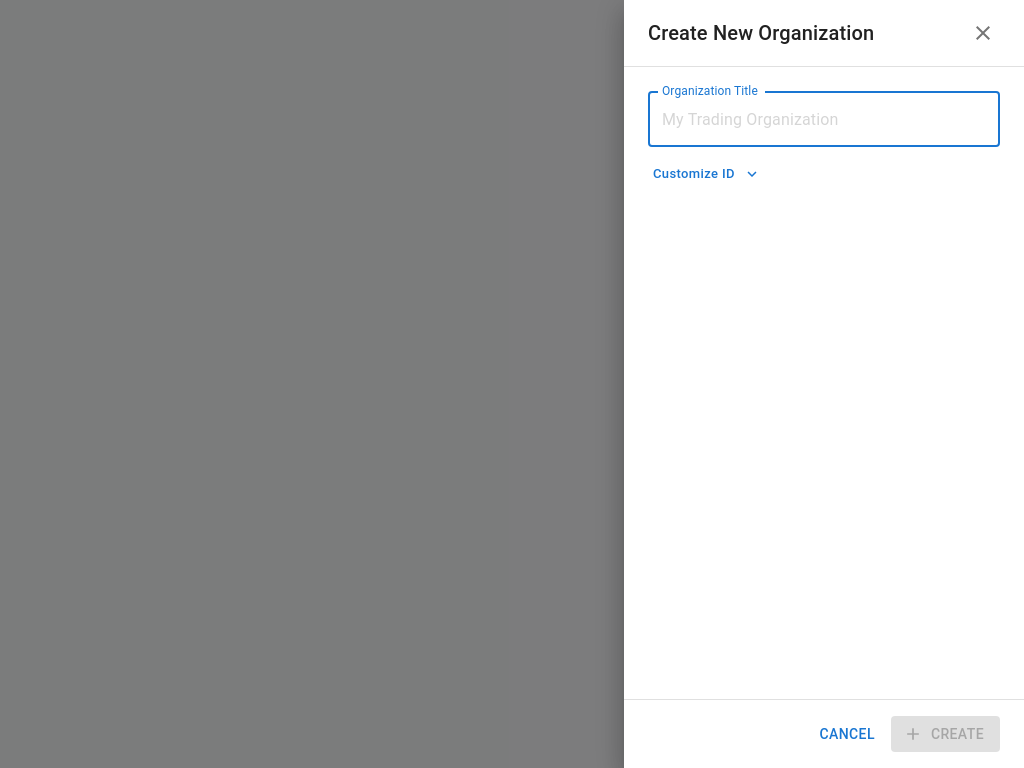
CreateOrganizationDrawer › validation › disables submit button when ID has validation error
The image size is (1024, 768).
// Enter a title first
Step 1. Type "My Organization" into the field labelled "Organization Title" → (824, 119), box [648,91,1000,147]
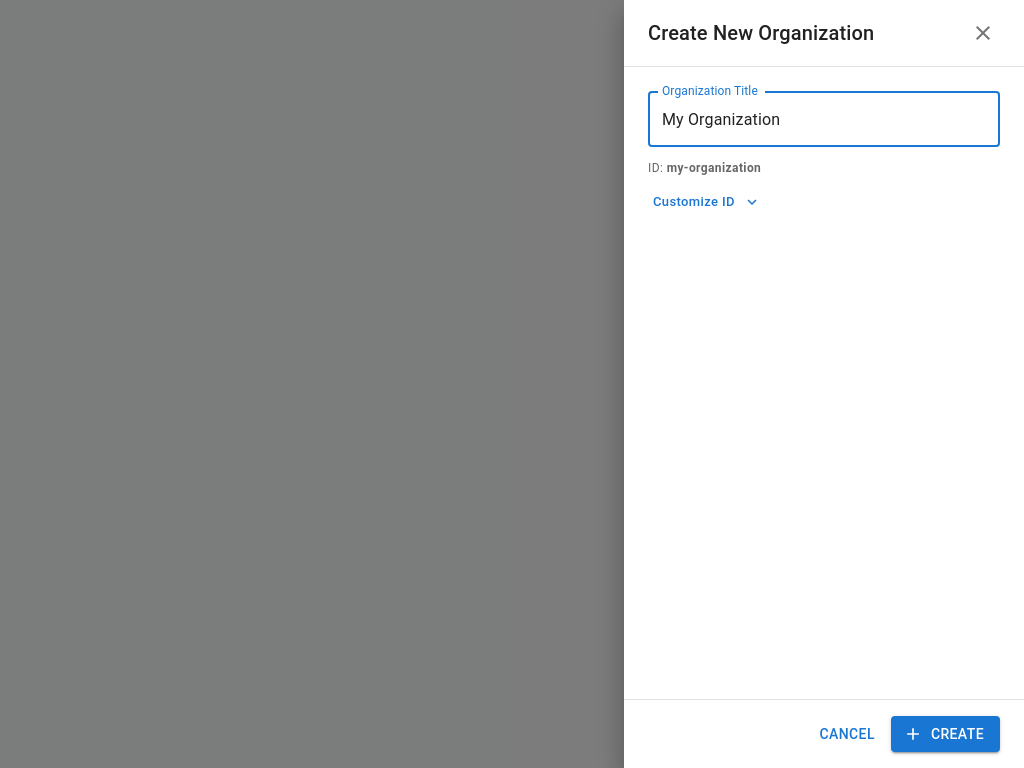
// Open advanced section and enter invalid ID
Step 2. Click the button "Customize ID" → (706, 202), box [648,187,764,218]
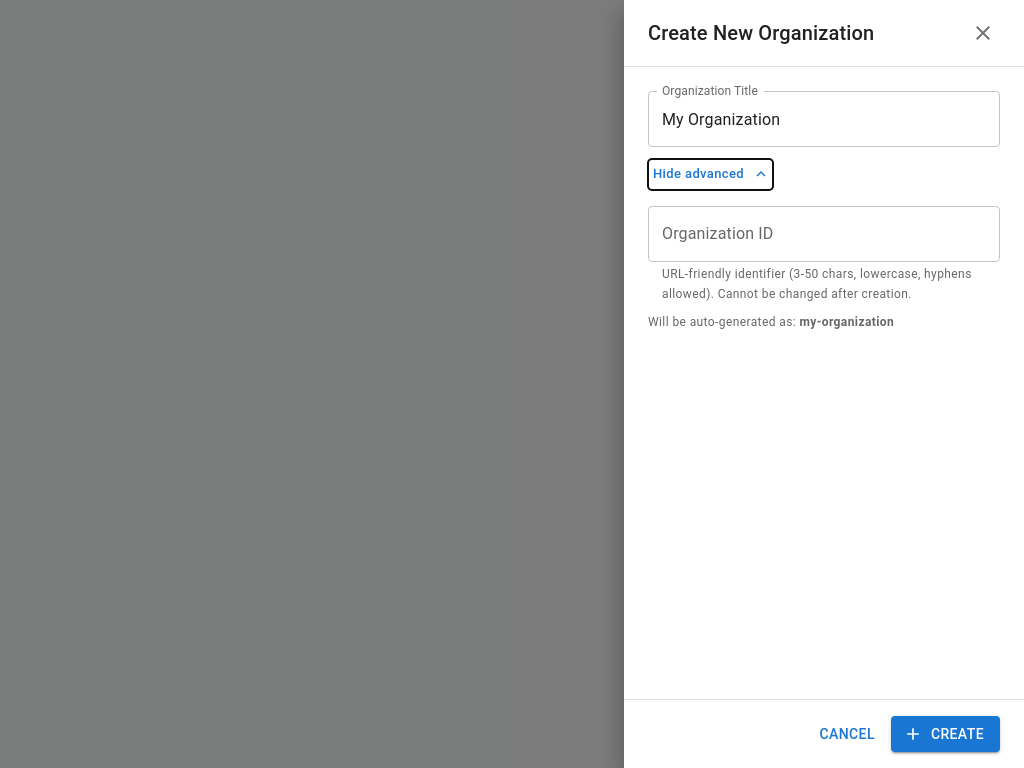
Step 3. Type "ab" into the field labelled "Organization ID" → (824, 234), box [648,206,1000,262]
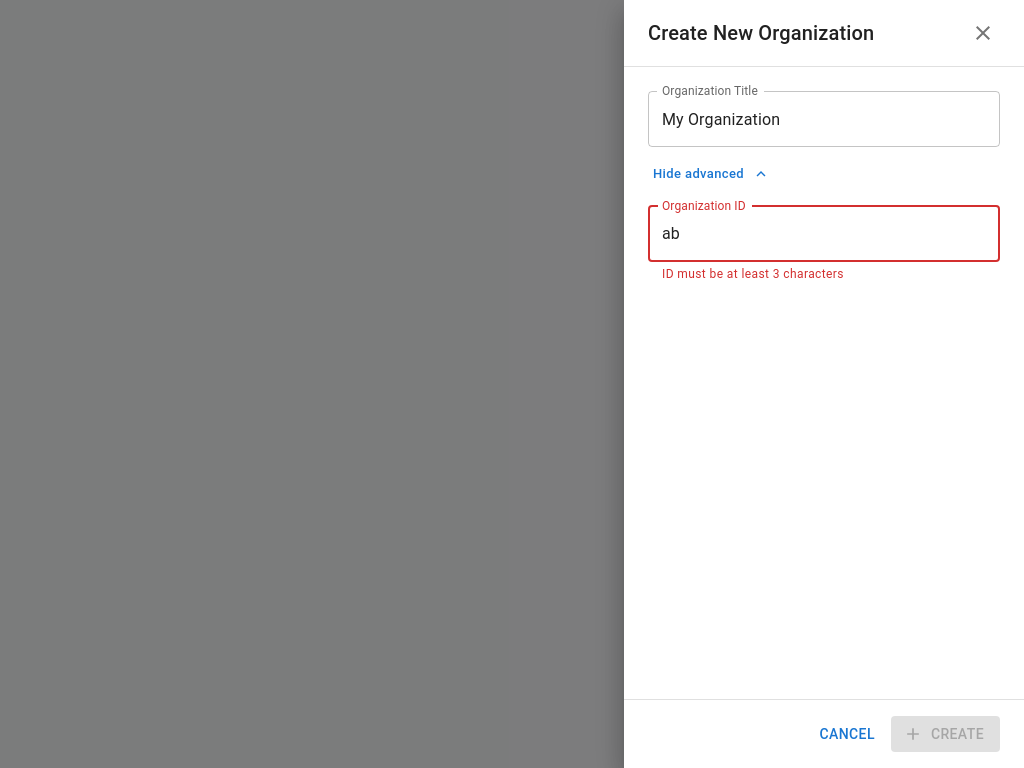
Check: the button "Create" is disabled, box [891,716,1000,752]
